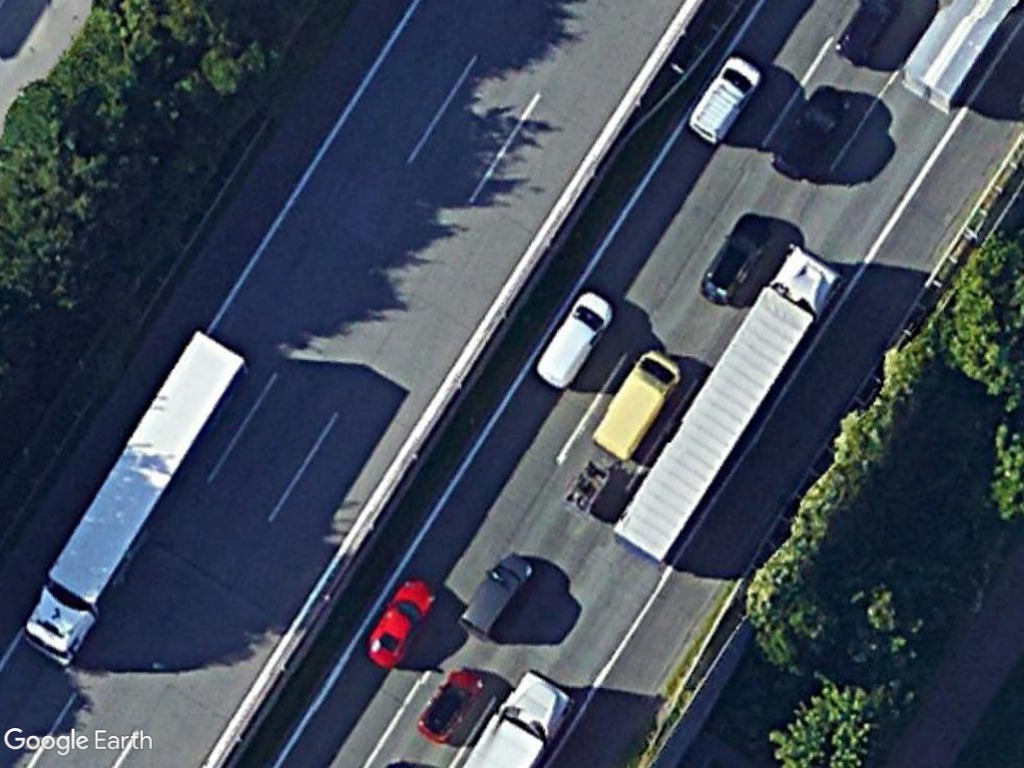car: (681, 46, 769, 153), (690, 207, 776, 309), (363, 569, 444, 673), (452, 544, 531, 645)
longvehicle: (20, 309, 254, 671), (609, 236, 835, 570)
van: (586, 344, 682, 464), (525, 283, 616, 394)
